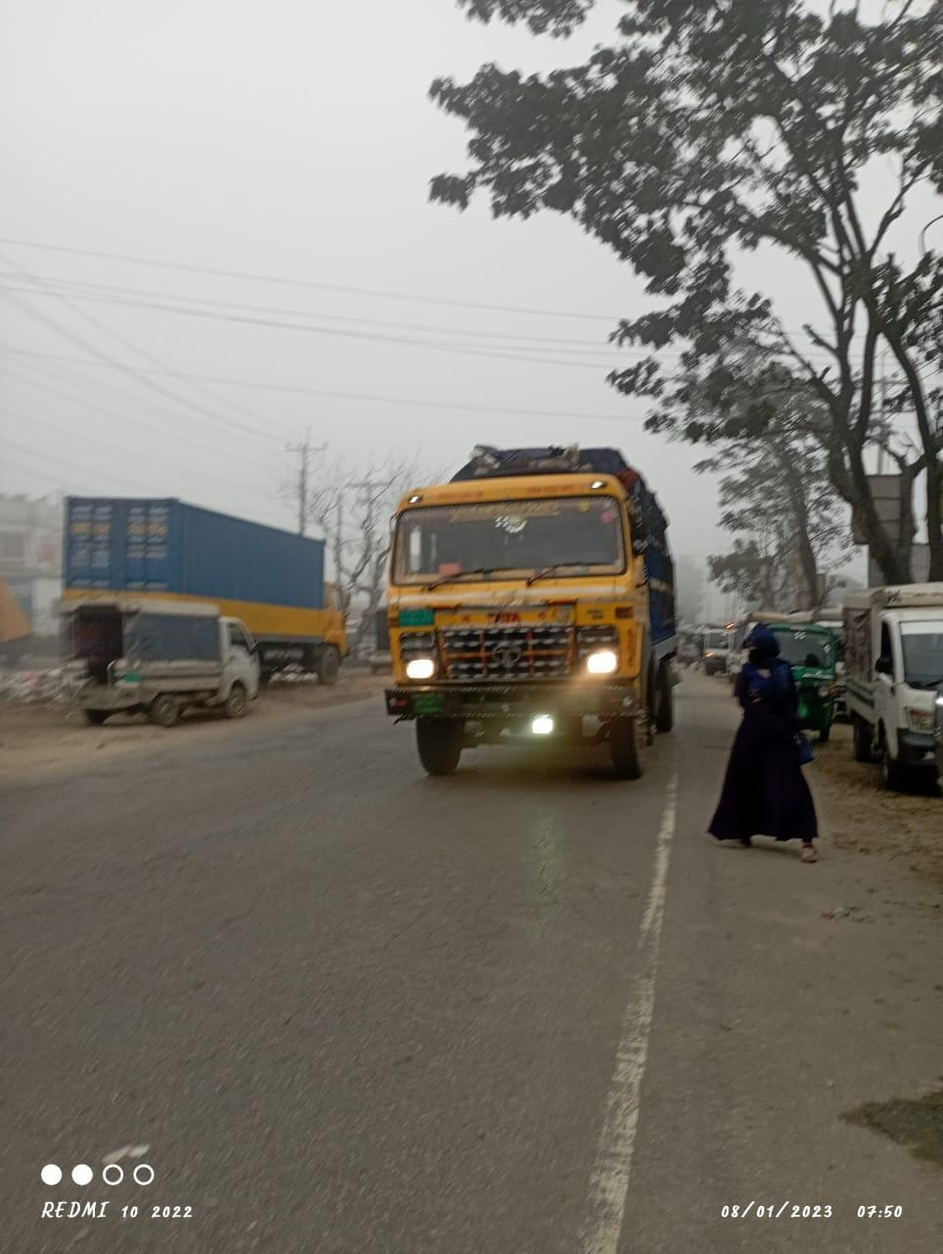Car: (65, 601, 271, 722), (848, 579, 943, 788)
Truck: (351, 432, 689, 798), (64, 482, 372, 671)
